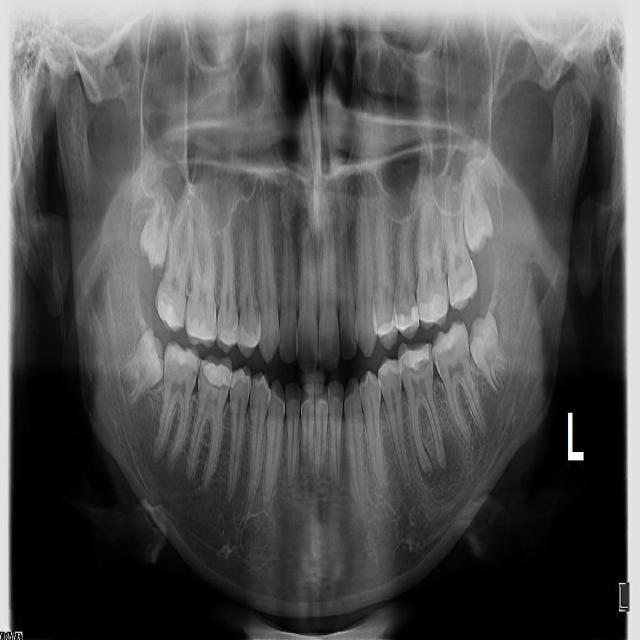Sterngold Implant: (406, 359, 433, 383), (441, 339, 462, 362), (454, 272, 472, 295), (191, 364, 199, 383), (197, 362, 203, 387)
Straumann Implant: (415, 292, 452, 328), (195, 356, 233, 390), (216, 314, 248, 346), (151, 299, 184, 330), (401, 344, 433, 374), (231, 325, 259, 352), (186, 316, 213, 343), (373, 314, 399, 340), (395, 307, 421, 333), (170, 341, 196, 367)
